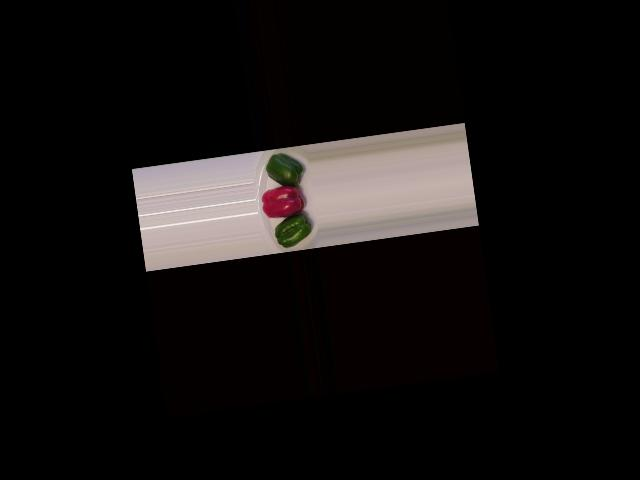bell_pepper: (259, 148, 308, 190)
